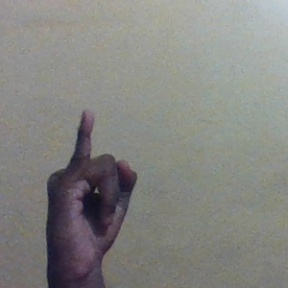I: (40, 108, 138, 261)
